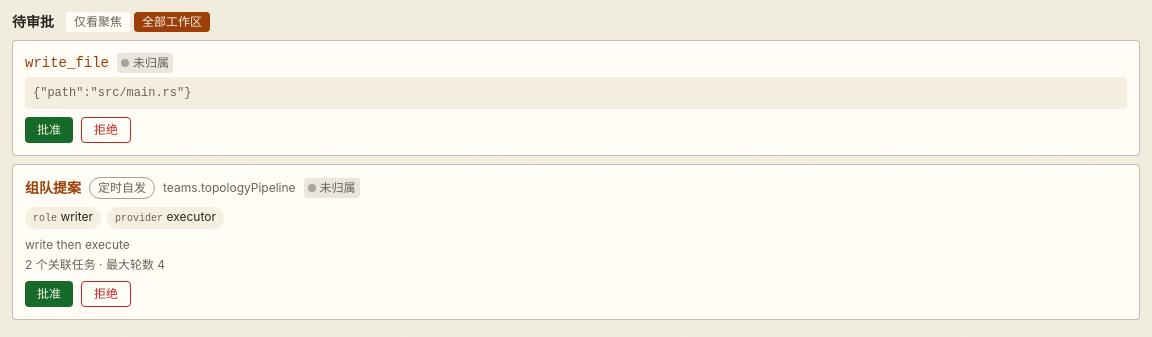
ApprovalsView — team proposals (P2-F 组 2) › renders proposal rows alongside tool approvals and clears on approve
Expected: the text "write_file" is shown, 25,53 -> 109,73
Expected: the text "组队提案" is shown, 25,178 -> 81,198
Click the button "批准" below "组队提案" at (49, 294), box 25,281 -> 73,307
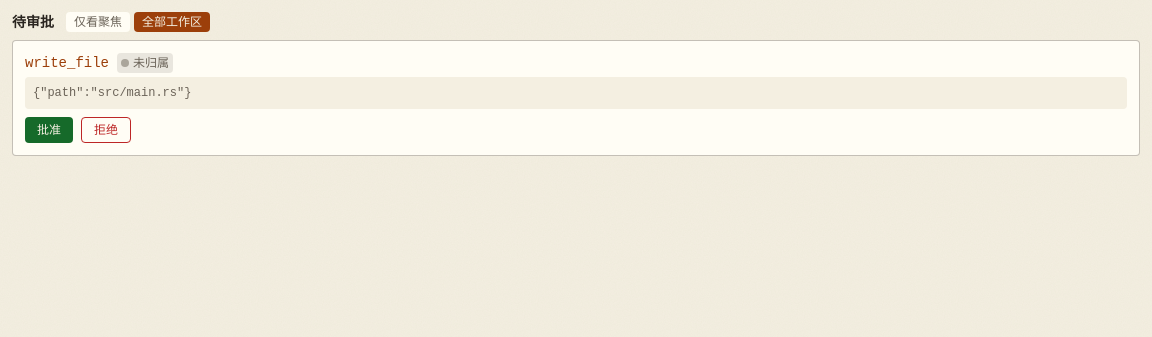
Expected: the text "write_file" is shown, 25,53 -> 109,73
Result: the text "组队提案" is gone
